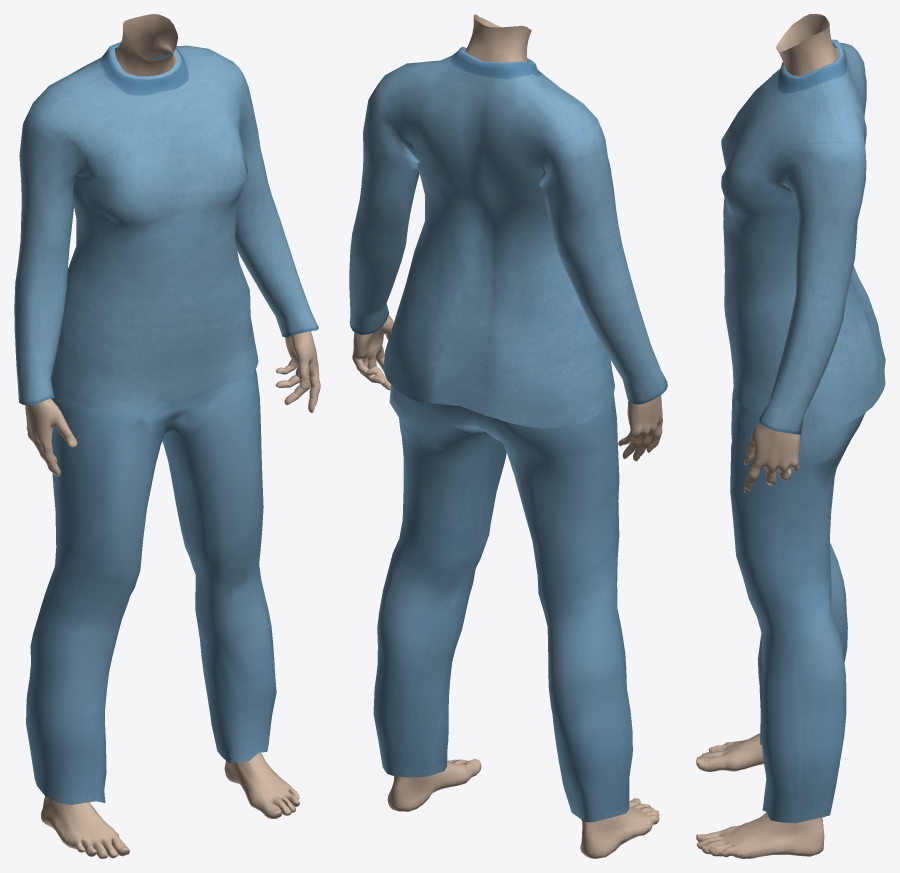
The model's file is avatarFemale.fbx.
The picture shows the model from 3 angles, left to right: view 1: azimuth 30°, elevation 25°; view 2: azimuth 150°, elevation 25°; view 3: azimuth 270°, elevation 25°; orthographic projection. The views are drawn at different scales.
Parts seen in each view (by area): view 1: male_casualsuit02Mesh, avatarfemaleMesh; view 2: male_casualsuit02Mesh, avatarfemaleMesh; view 3: male_casualsuit02Mesh, avatarfemaleMesh.
Boxes of the visible parts, x1=… form: male_casualsuit02Mesh: x1=14, y1=42, x2=318, y2=804; avatarfemaleMesh: x1=25, y1=14, x2=320, y2=858; male_casualsuit02Mesh: x1=349, y1=47, x2=667, y2=822; avatarfemaleMesh: x1=352, y1=14, x2=662, y2=858; male_casualsuit02Mesh: x1=721, y1=39, x2=885, y2=823; avatarfemaleMesh: x1=696, y1=14, x2=838, y2=858.
Size of the model in its own units: 56.52 by 142 by 31.11.
